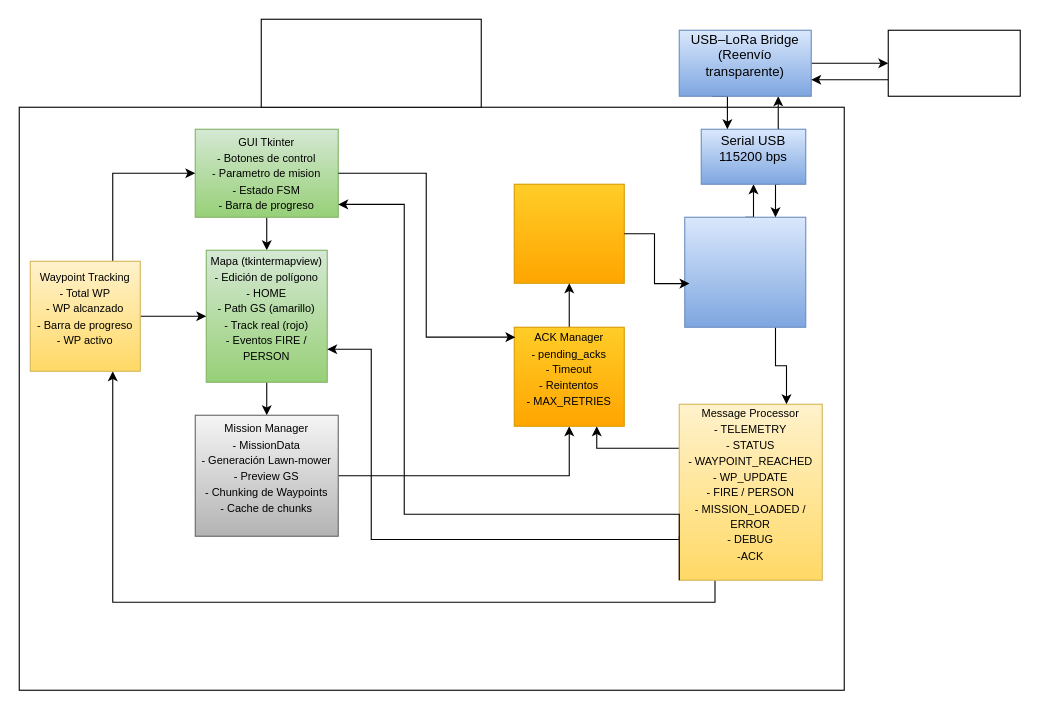
The diagram is 1040 pixels wide and 710 high, and some of its shapes have lost their labels. The centre of each missing label's shape, as x and y in pixels:
"Command Sender send_command() - Construcción JSON - GS# ... #END - ID único" belongs at pixel 568 233.
"Dron ESP32 + Pixhawk" belongs at pixel 953 62.
"Ground Station Python + Tkinter Planificación, Supervisión y Comunicaciones" belongs at pixel 370 62.
"RX TX Thread receive_data() - Buffer Serial - Parser UAV# ... #END - JSON decode" belongs at pixel 745 271.
